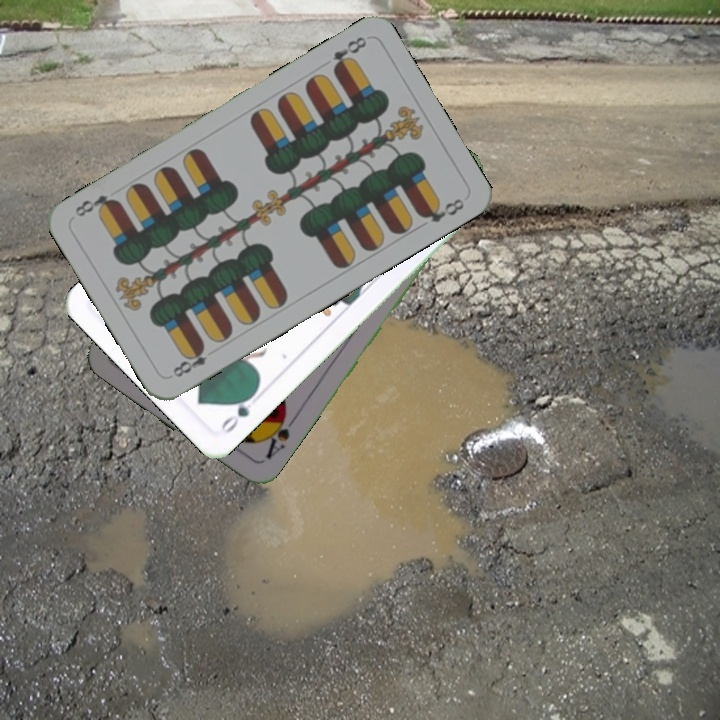E8: (328, 32, 370, 75), (169, 341, 210, 380)
GO: (215, 387, 259, 436)
SA: (258, 406, 299, 462)
